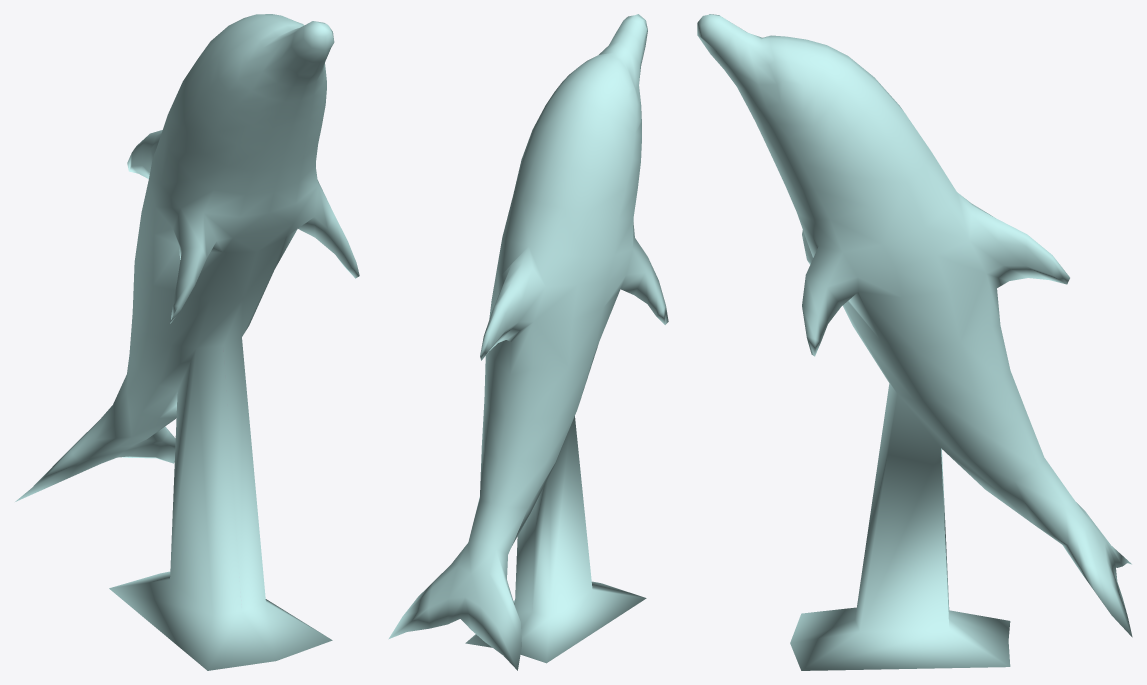
File: gerador_moedas.fbx
The picture shows the model from 3 angles, left to right: view 1: azimuth 30°, elevation 25°; view 2: azimuth 150°, elevation 25°; view 3: azimuth 270°, elevation 25°; orthographic projection. The views are drawn at different scales.
Visible parts, largest first — view 1: Low; view 2: Low; view 3: Low.
Boxes of the visible parts, left/top/right/bottom form: Low: left=15, top=14, right=359, bottom=670; Low: left=388, top=14, right=668, bottom=670; Low: left=697, top=14, right=1132, bottom=670.
Size of the model in its own units: 107 by 361 by 227.
